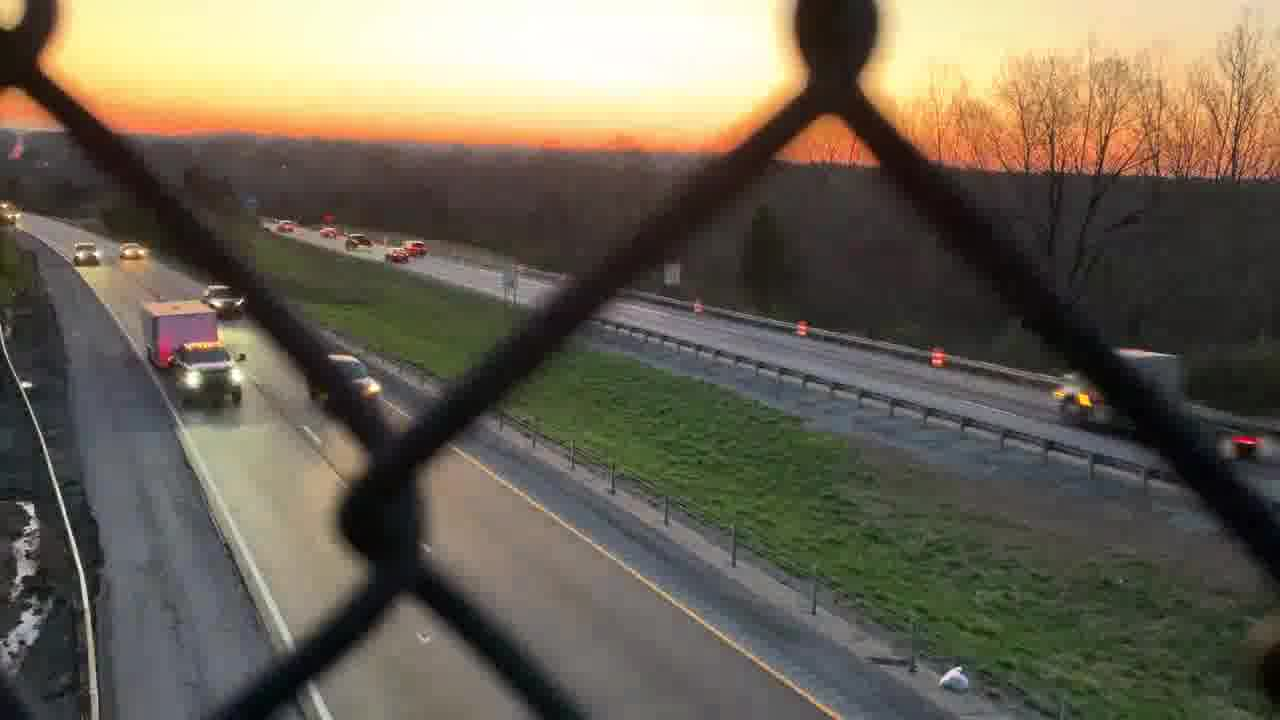heavyTruck: (1056, 341, 1280, 455)
lightTruck: (142, 297, 248, 406)
